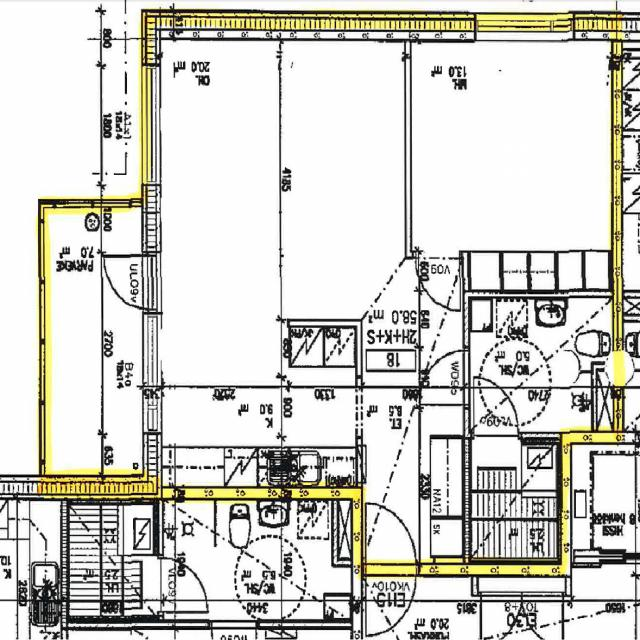door: (365, 564, 416, 638), (365, 502, 416, 576), (98, 254, 160, 308), (474, 376, 518, 444), (415, 250, 460, 313), (418, 350, 469, 404)
